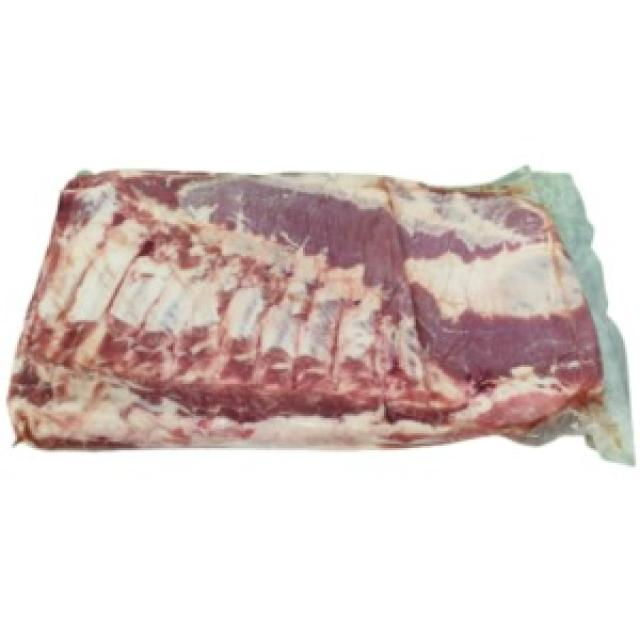pork: (19, 154, 623, 457)
